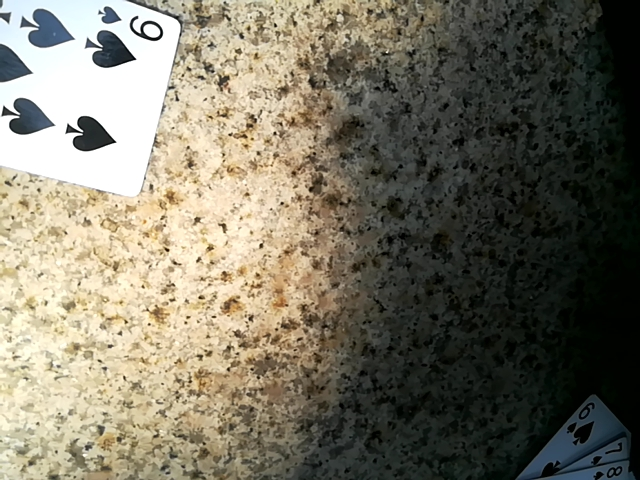ht 9: (0, 0, 177, 196)
